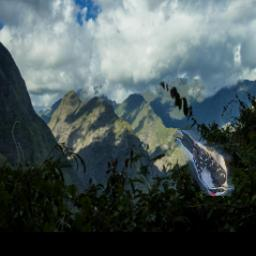Woodpecker: (177, 131, 235, 197)
